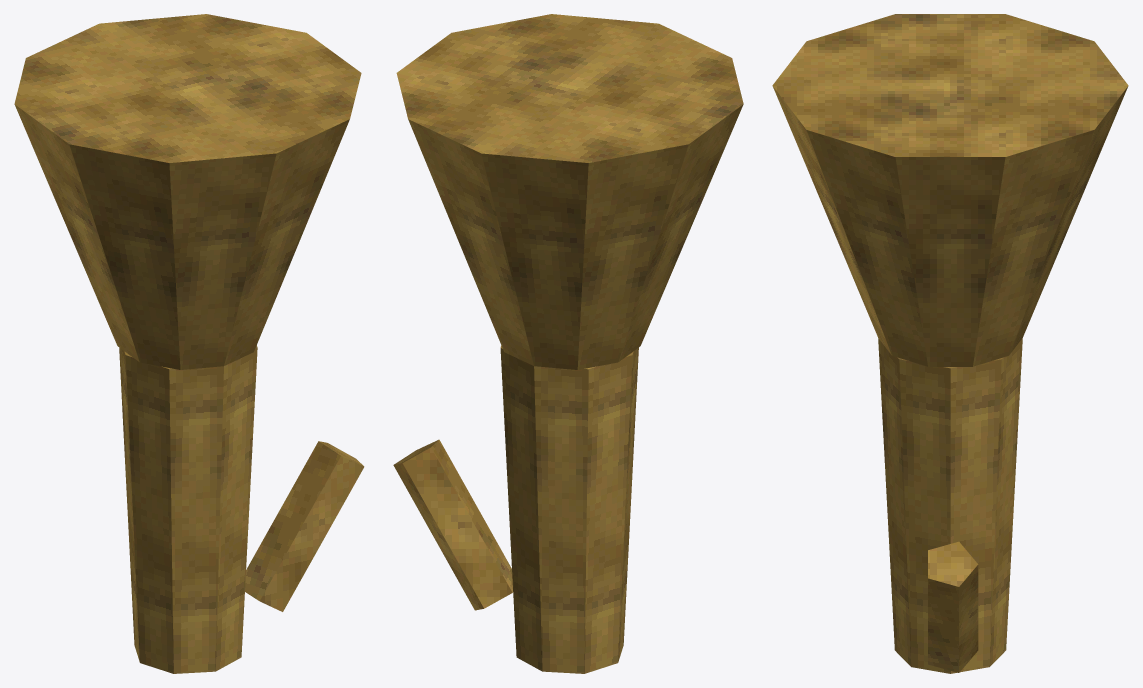
Rendered from tuba.obj.
3 renders of one model, left to right at view 1: azimuth 30°, elevation 25°; view 2: azimuth 150°, elevation 25°; view 3: azimuth 270°, elevation 25°, orthographic.
Parts seen in each view (by area): view 1: tuba; view 2: tuba; view 3: tuba.
Part boxes in pixels (x1,y1,x2,y2): tuba: (14, 14, 364, 673); tuba: (393, 14, 743, 673); tuba: (772, 14, 1128, 673).
Size of the model in its own units: 0.6637 by 1.12 by 0.64.
Materials: 1 (1 with a texture image).
